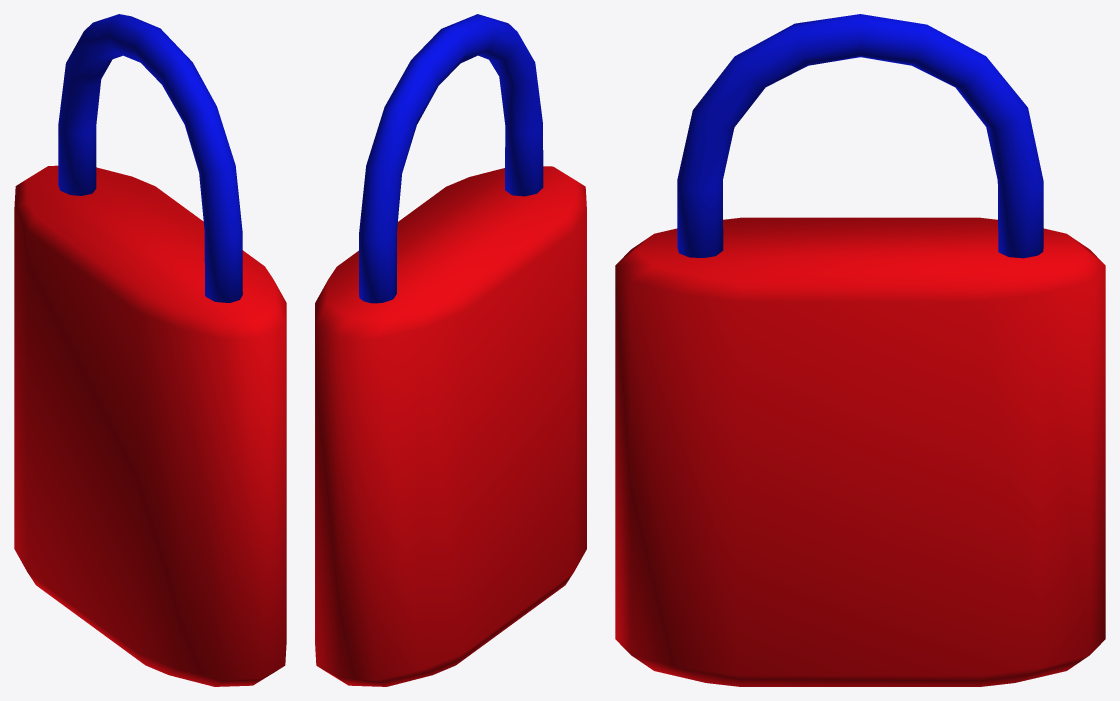
The model's file is Lock.fbx.
3 views of the same model, side by side, from view 1: azimuth 30°, elevation 25°; view 2: azimuth 150°, elevation 25°; view 3: azimuth 270°, elevation 25° (orthographic). The views are drawn at different scales.
Parts seen in each view (by area): view 1: BigLock; view 2: BigLock; view 3: BigLock.
Part boxes in pixels (x1,y1,x2,y2): BigLock: (14, 14, 286, 686); BigLock: (315, 14, 586, 686); BigLock: (615, 14, 1105, 686).
Bounding box in the file's own units: 7.8 × 32.1 × 22.3.
